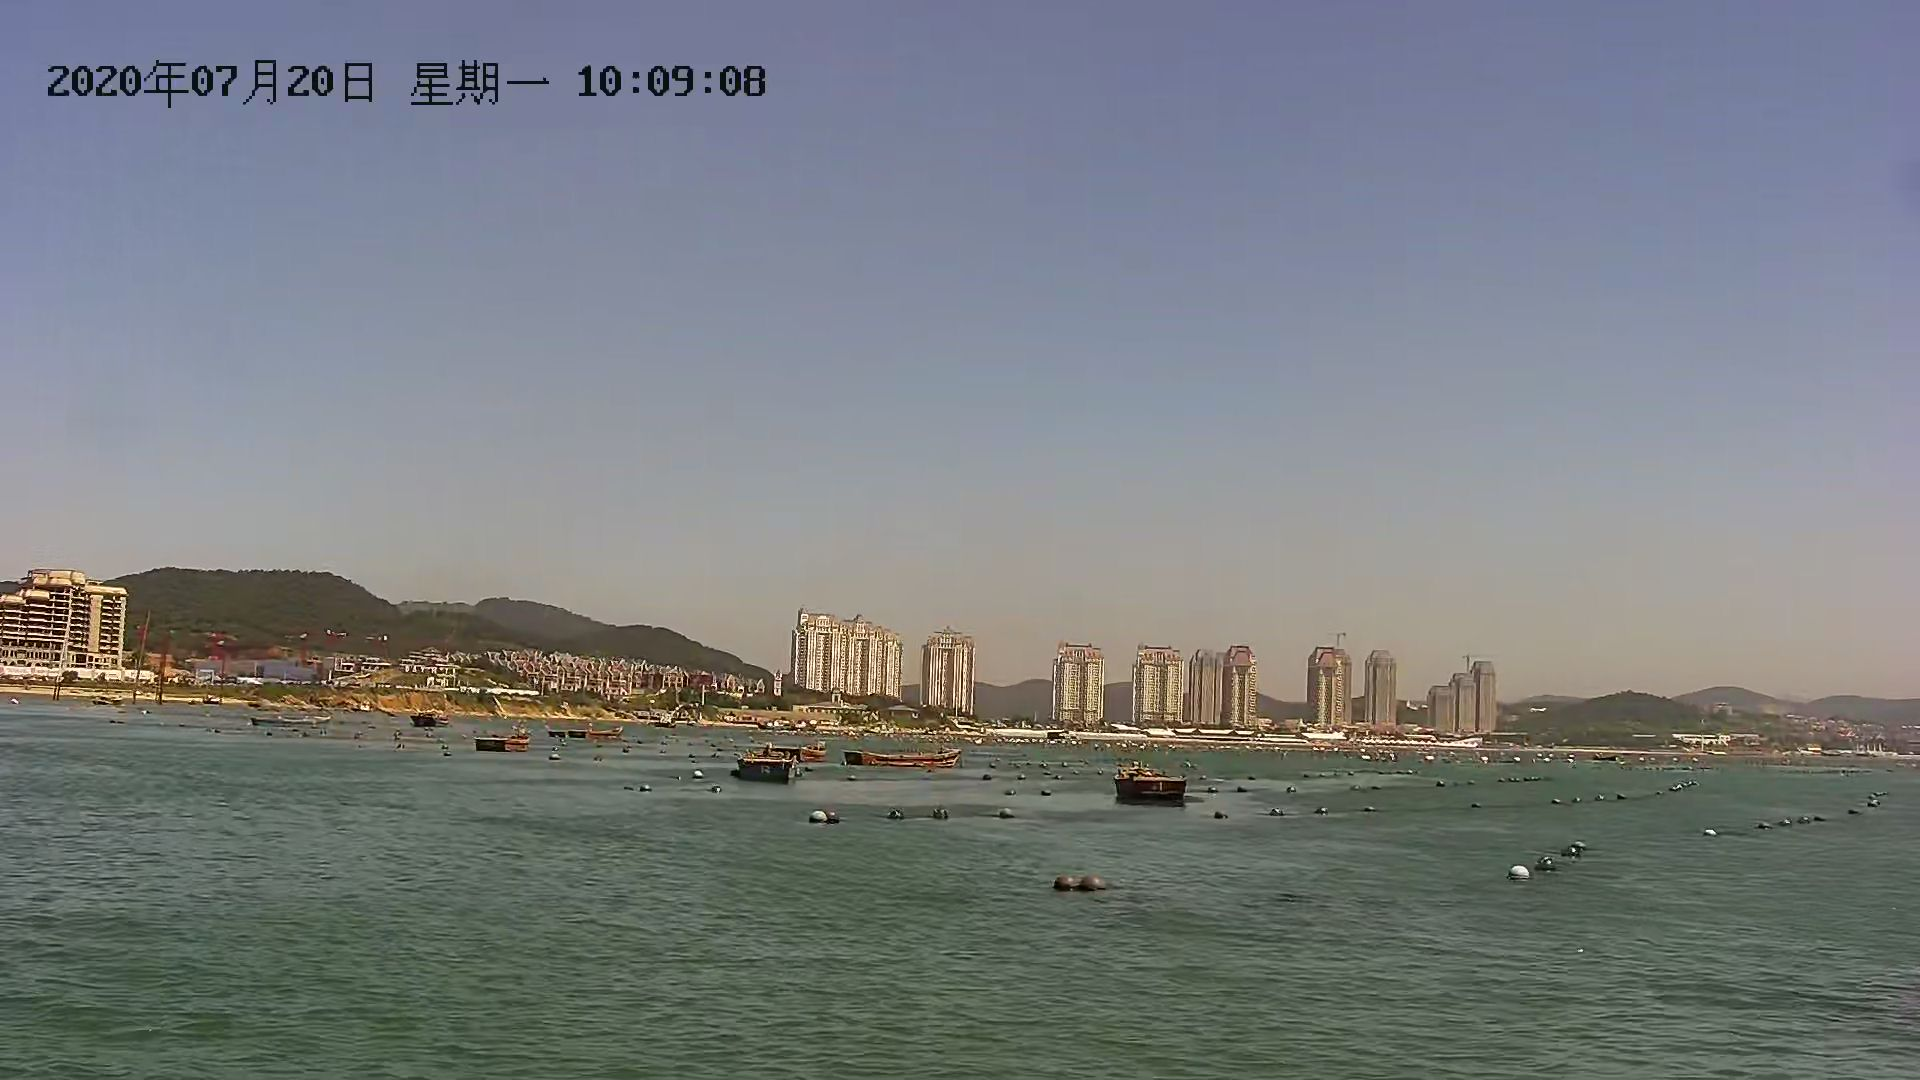ball: (1505, 861, 1534, 887), (1559, 839, 1586, 865), (1534, 851, 1557, 878), (1083, 872, 1105, 899), (808, 806, 825, 825)
boat: (847, 745, 967, 774), (1112, 765, 1193, 806), (731, 750, 810, 781), (549, 719, 618, 745), (475, 735, 525, 756)
